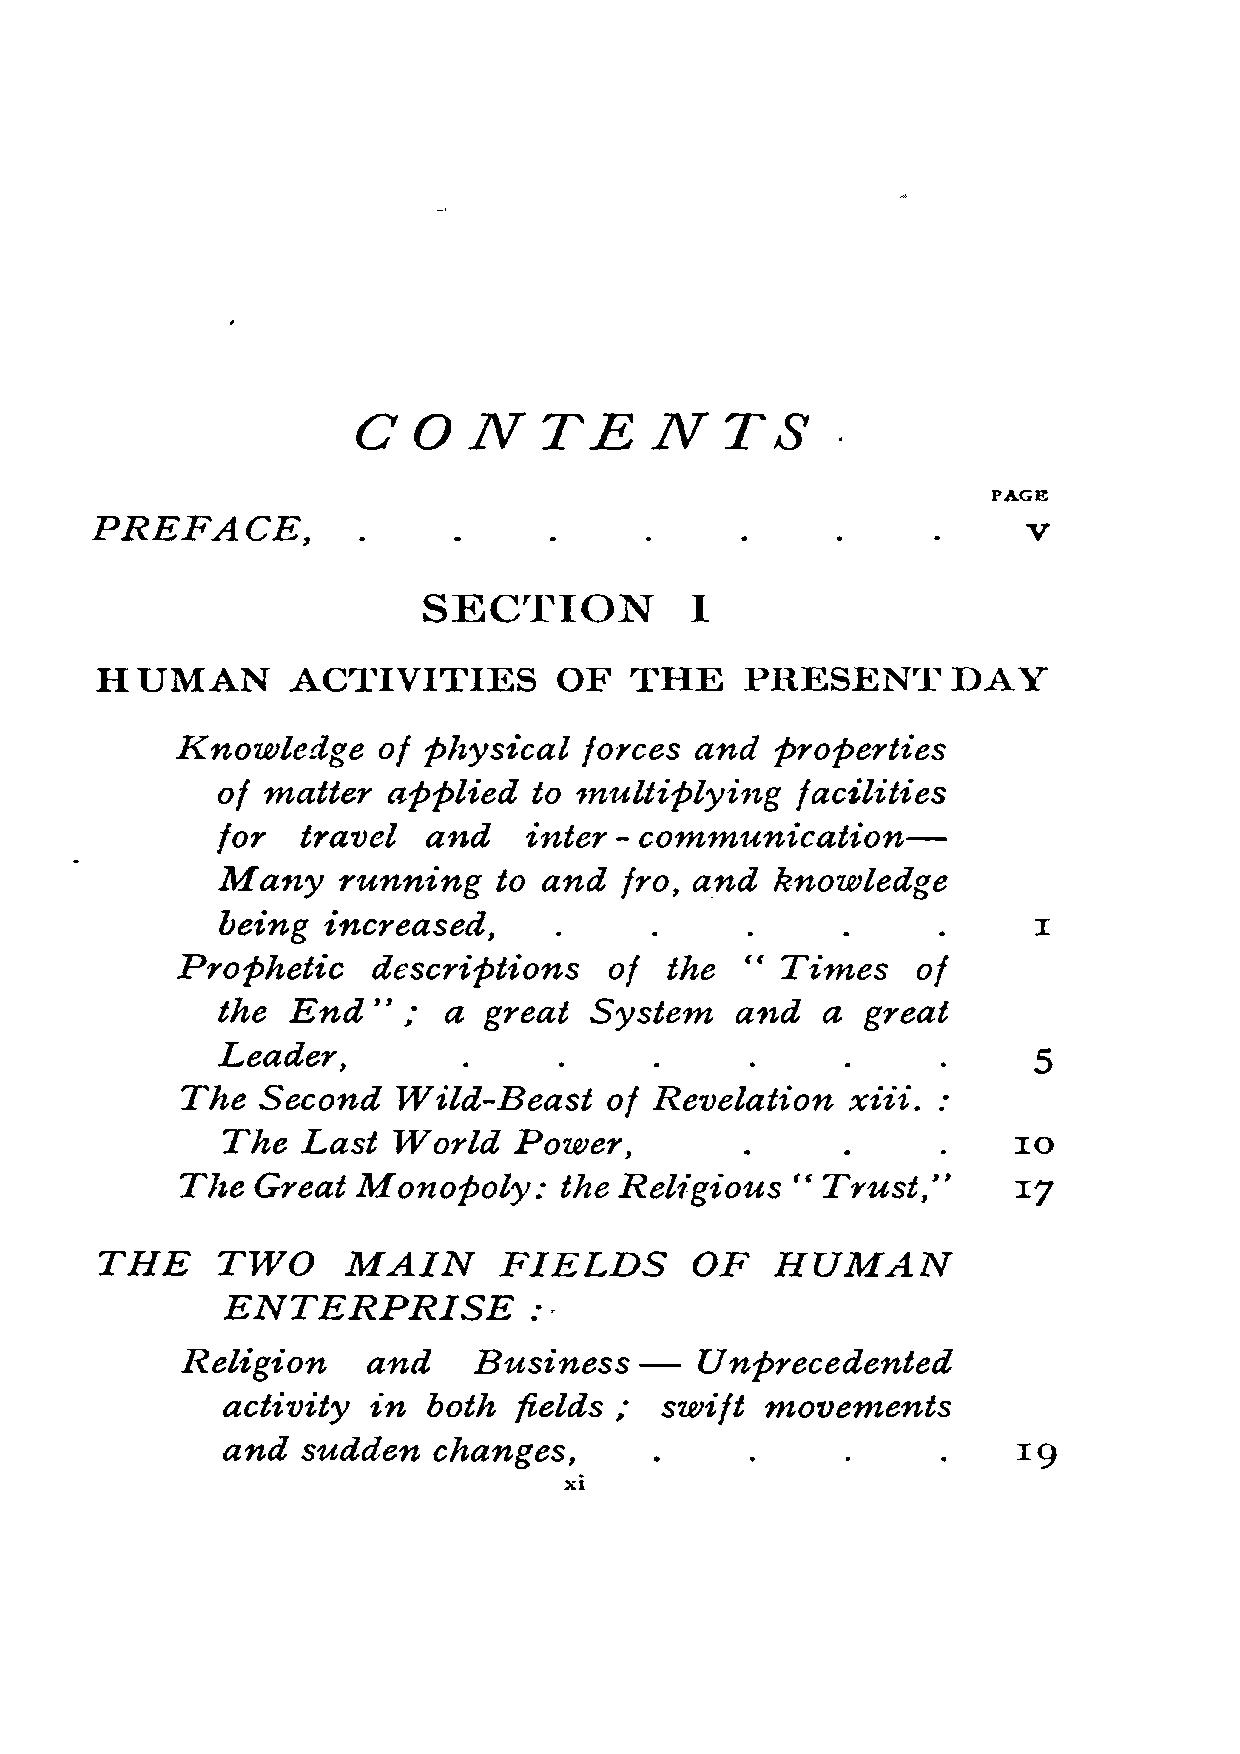TOC_chapter: (173, 726, 964, 947), (91, 584, 1049, 706), (185, 1339, 965, 1468), (178, 951, 960, 1074), (91, 1241, 972, 1329), (177, 1082, 951, 1161), (174, 1168, 951, 1206), (91, 513, 315, 553)
TOC_pagenumber: (1013, 1439, 1063, 1476), (1013, 1174, 1053, 1210), (1020, 515, 1056, 548), (1028, 910, 1056, 947), (1013, 1133, 1053, 1158), (1025, 1043, 1053, 1075)
chapter: (350, 408, 812, 454)
content_pagenumber: (560, 1471, 588, 1494)
